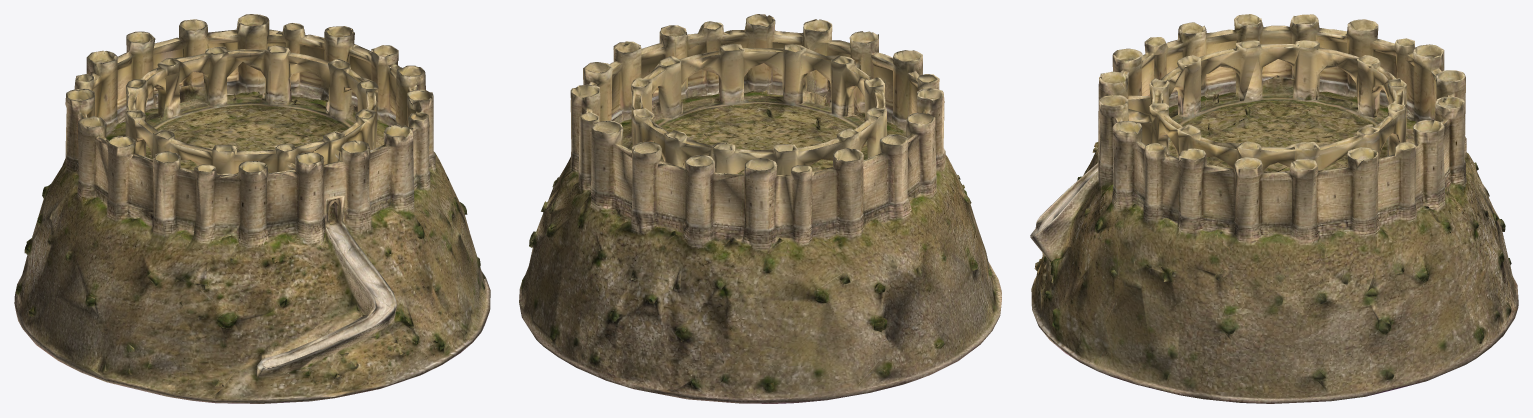
Rendered from city_gaziantep_castle.glb.
3 views of the same model, side by side, from view 1: azimuth 30°, elevation 25°; view 2: azimuth 150°, elevation 25°; view 3: azimuth 270°, elevation 25° (orthographic).
Visible parts, largest first — view 1: Mesh1.0; view 2: Mesh1.0; view 3: Mesh1.0.
Part boxes in pixels (x1,y1,x2,y2): Mesh1.0: (14, 14, 490, 403); Mesh1.0: (519, 14, 1001, 403); Mesh1.0: (1030, 14, 1518, 403).
Bounding box in the file's own units: 30.71 × 15 × 30.84.
1 material, 1 textured.
